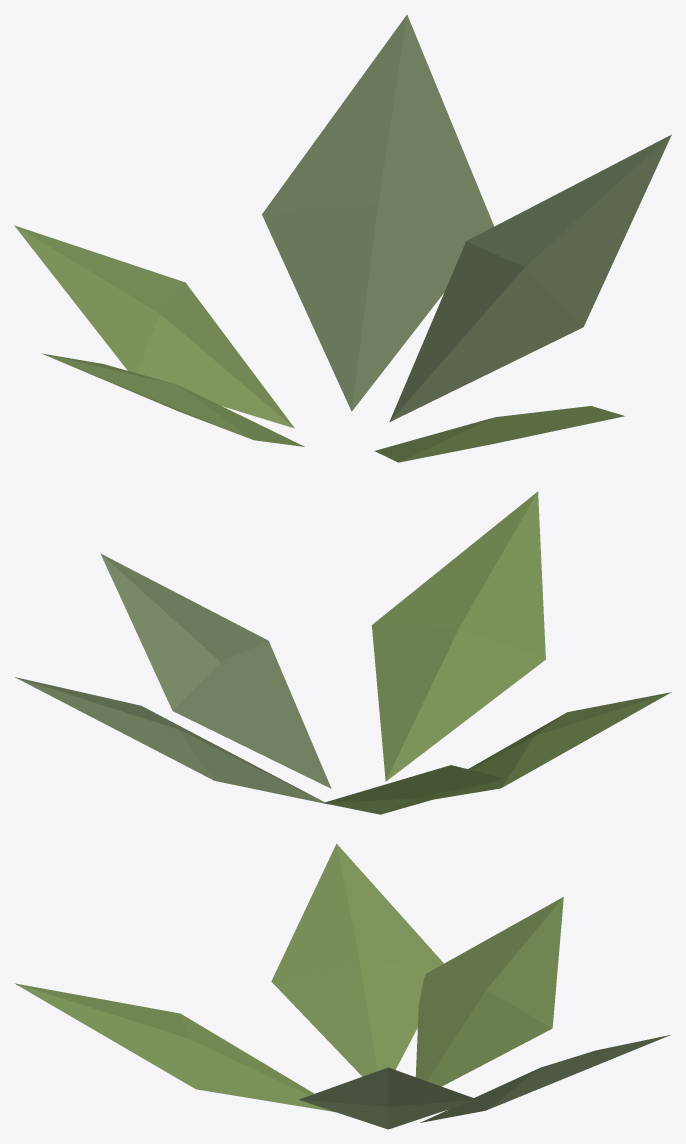
The model's file is Plant_Common_BroadleafGroundcover_001_LOD1.glb.
3 views of the same model, one above another, from view 1: azimuth 30°, elevation 25°; view 2: azimuth 150°, elevation 25°; view 3: azimuth 270°, elevation 25° (orthographic). The views are drawn at different scales.
Visible parts, largest first — view 1: Plant_Common_BroadleafGroundcover_001_LOD1; view 2: Plant_Common_BroadleafGroundcover_001_LOD1; view 3: Plant_Common_BroadleafGroundcover_001_LOD1.
Part boxes in pixels (x1,y1,x2,y2): Plant_Common_BroadleafGroundcover_001_LOD1: [14, 14, 671, 462]; Plant_Common_BroadleafGroundcover_001_LOD1: [15, 491, 671, 814]; Plant_Common_BroadleafGroundcover_001_LOD1: [14, 843, 670, 1129].
Size of the model in its own units: 1.5 by 0.4818 by 1.68.
